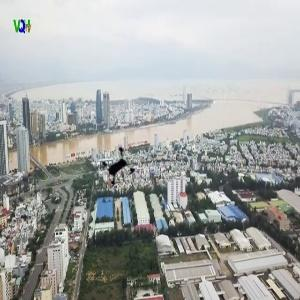drone: (97, 146, 148, 197)
